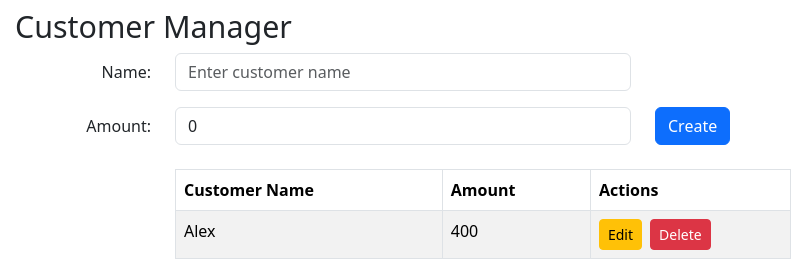
CustomerManager Component › delete a customer
The image size is (808, 276).
expect the text "Alex" is shown: met, box [176, 210, 442, 258]
Click the button "Delete".
click(680, 234)  # box [650, 218, 711, 250]
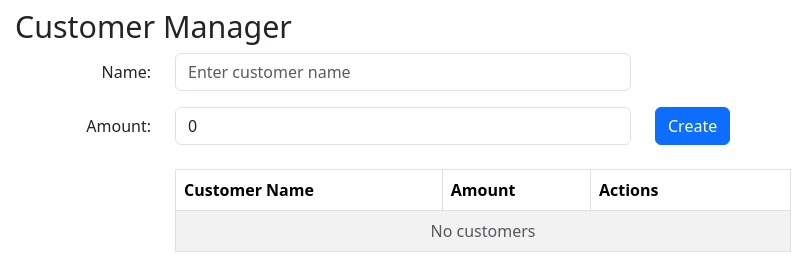
expect the text "Alex" is gone: met
